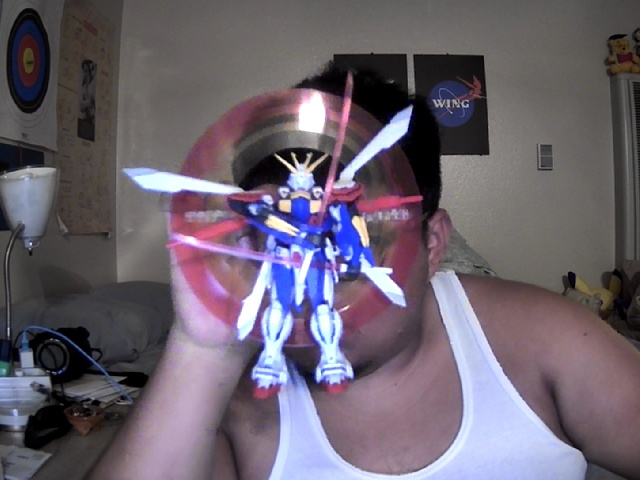God: (121, 85, 423, 399)
